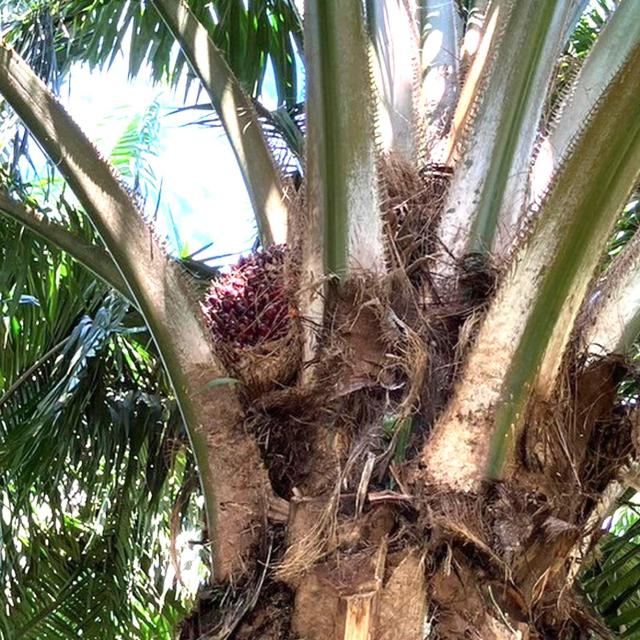ripe: (199, 245, 300, 350)
